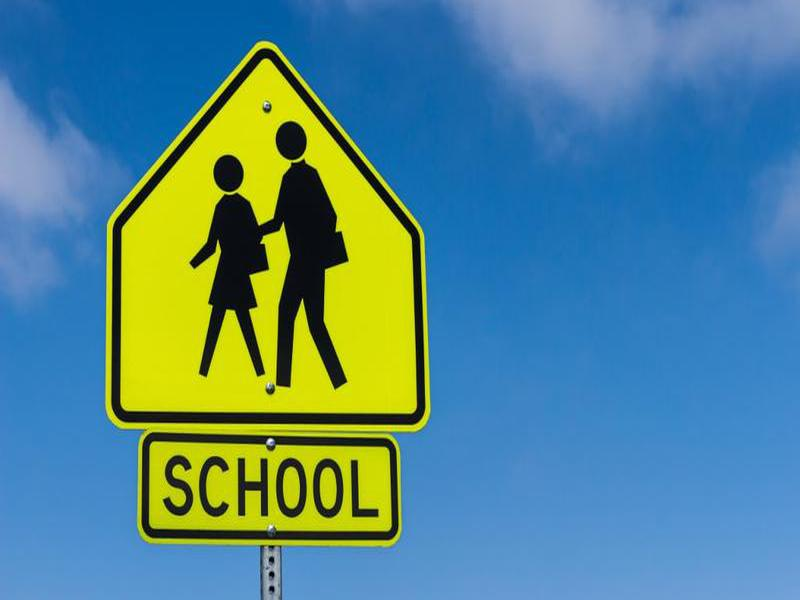slow: (91, 37, 437, 434)
